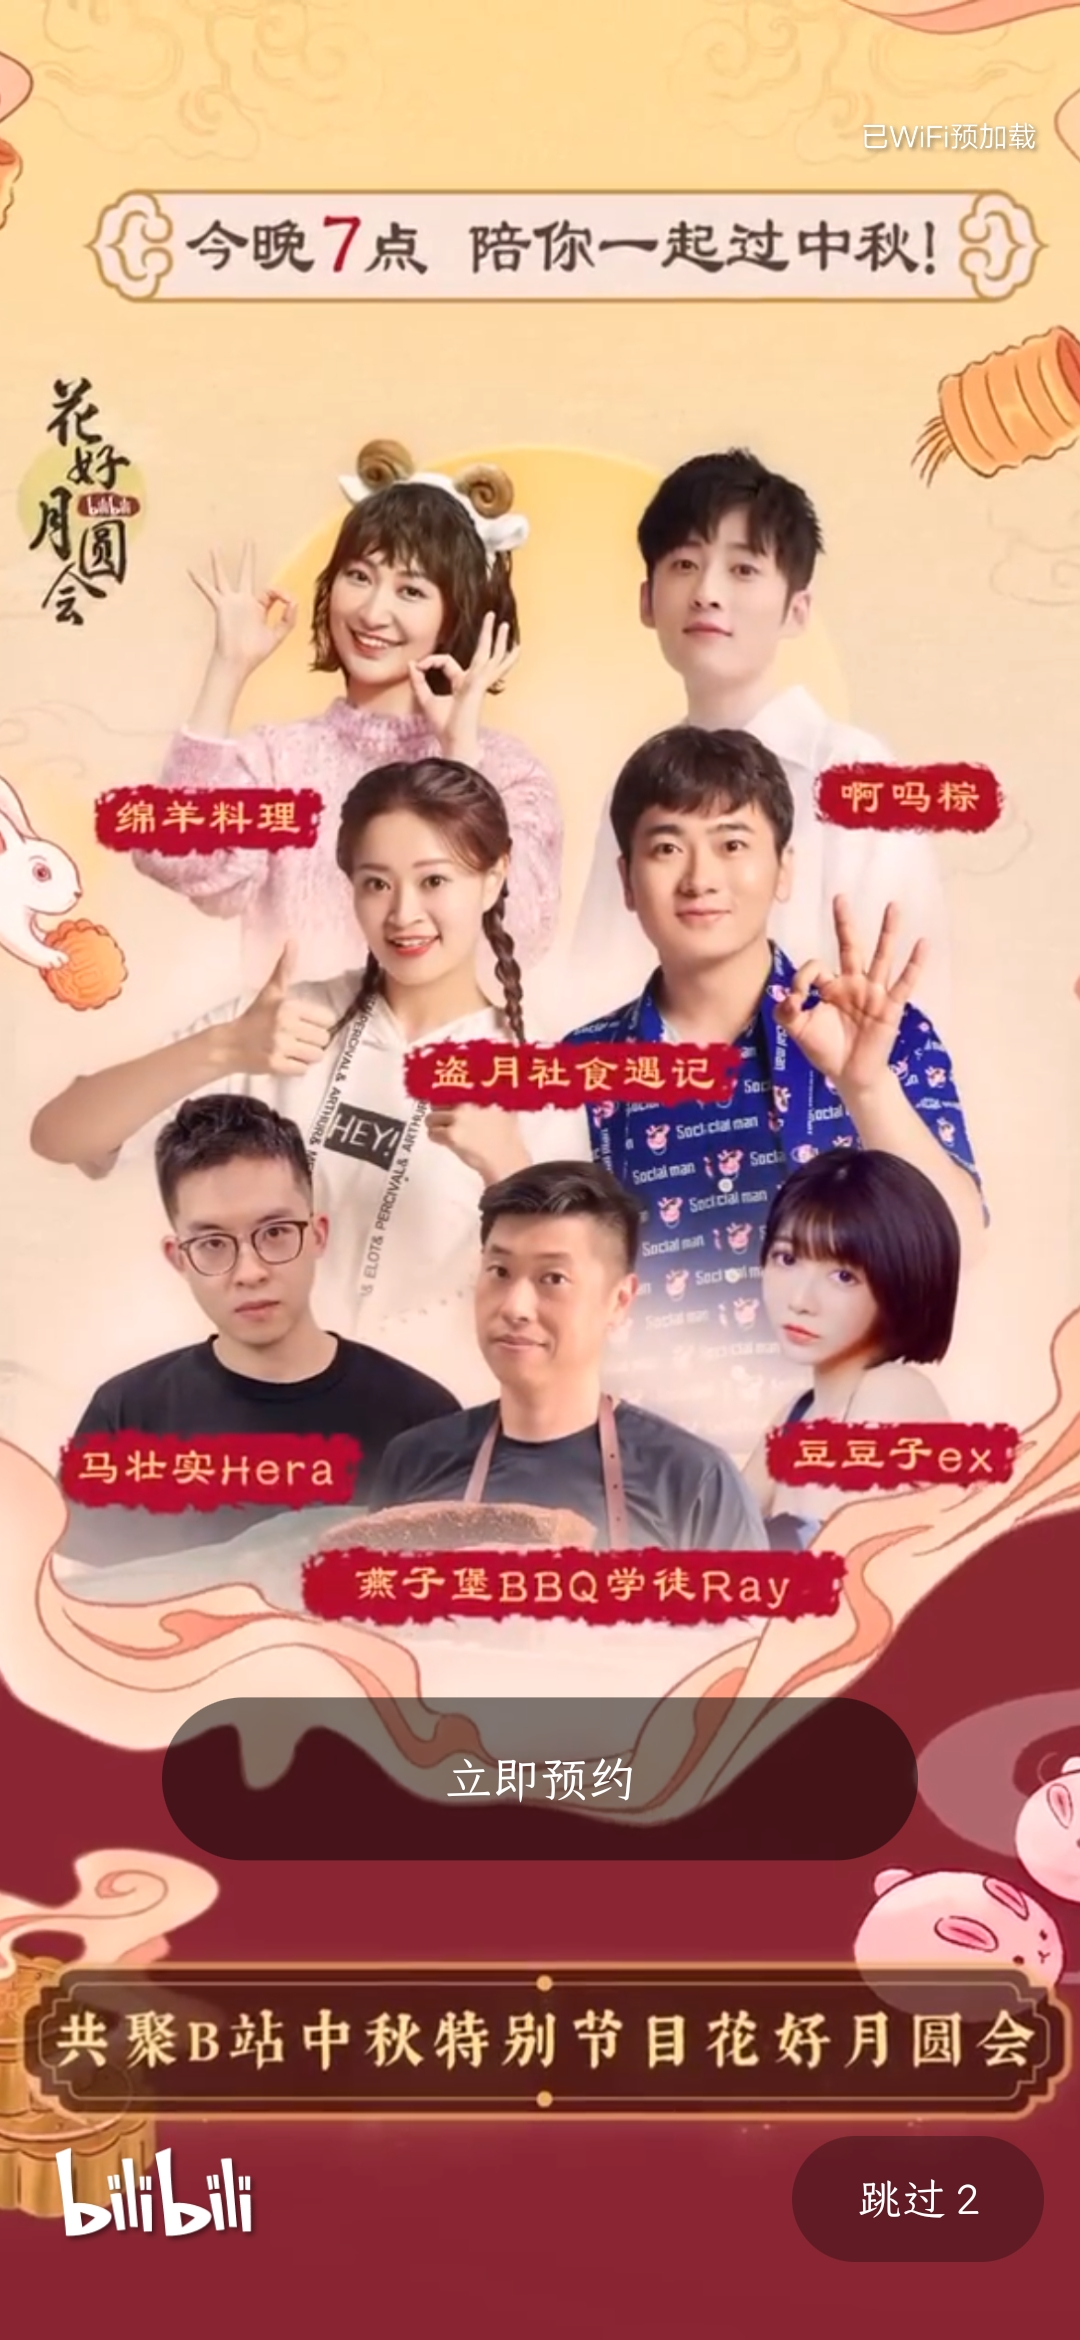skip: (840, 2142, 999, 2262)
